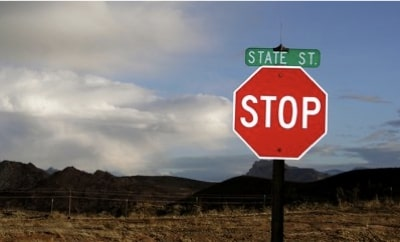StopSign: (231, 64, 330, 162)
